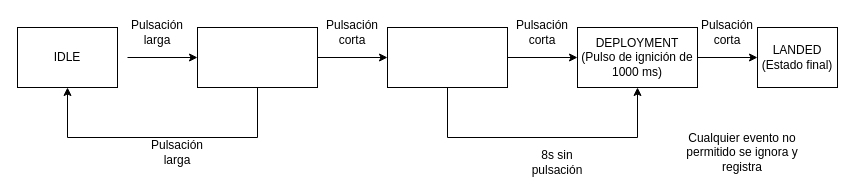
The diagram is 855 pixels wide and 194 high, and some of its shapes have lost their labels. The shapes that lost their labels are listed below. From the top down, each one's box as (x1, y1, x2, y2) in pixels, then its label:
(196, 26, 318, 88): ARMED
(386, 26, 508, 88): ASCENT
